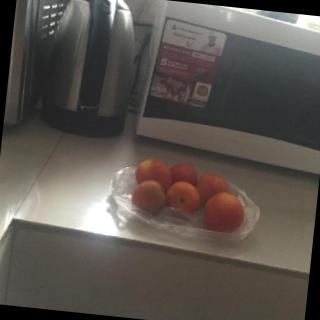Tomat: (126, 154, 253, 238)
